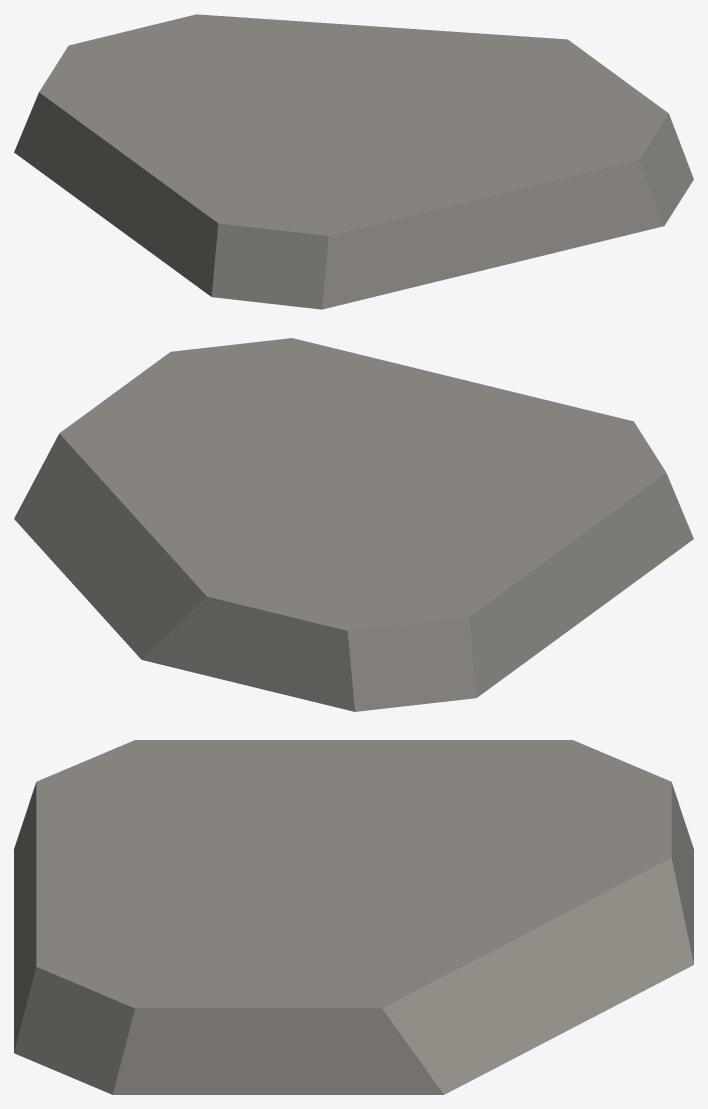
Rendered from Rock_Tile_m_13.fbx.
3 renders of one model, top to bottom at view 1: azimuth 30°, elevation 25°; view 2: azimuth 150°, elevation 25°; view 3: azimuth 270°, elevation 25°, orthographic. The views are drawn at different scales.
Visible parts, largest first — view 1: Rock_Tile_m_13; view 2: Rock_Tile_m_13; view 3: Rock_Tile_m_13.
Part boxes in pixels (box(x1,y1,x2,y2)): Rock_Tile_m_13: box(14, 14, 693, 309); Rock_Tile_m_13: box(14, 338, 693, 711); Rock_Tile_m_13: box(14, 740, 693, 1094).
Bounding box in the file's own units: 40 × 5 × 40.
